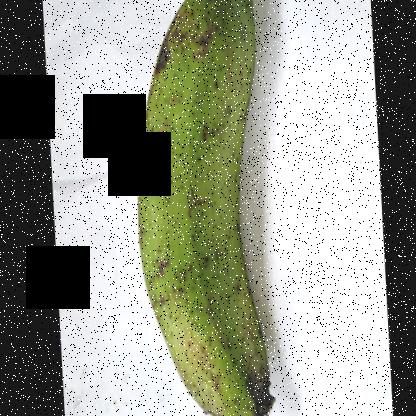unripe: (120, 1, 293, 415)
